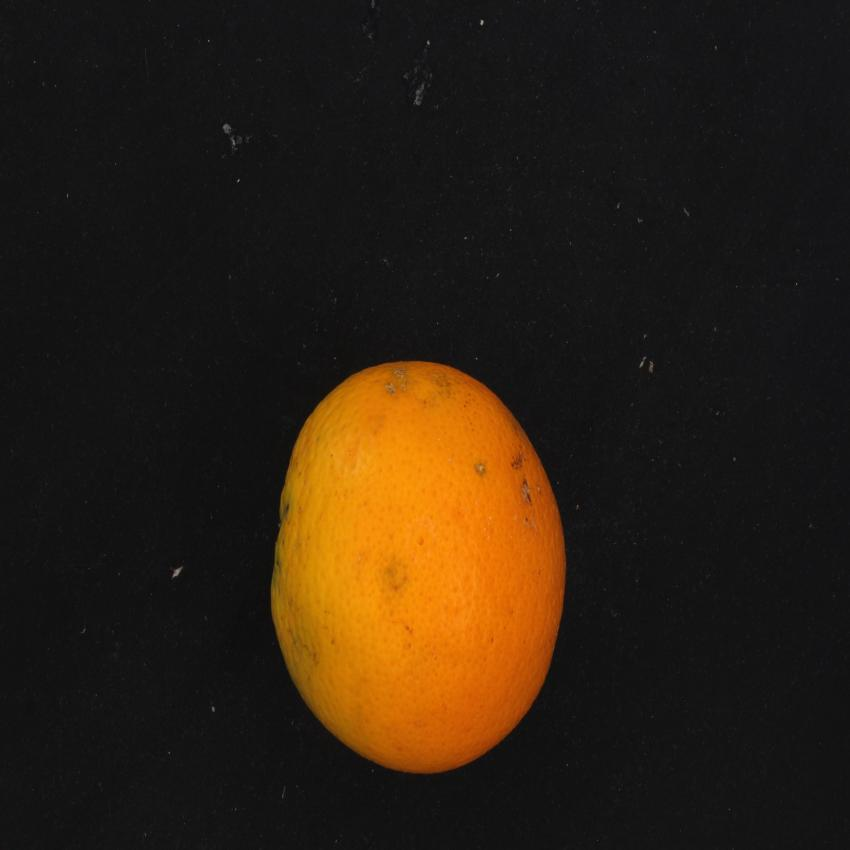Buen estado: (264, 334, 576, 790)
